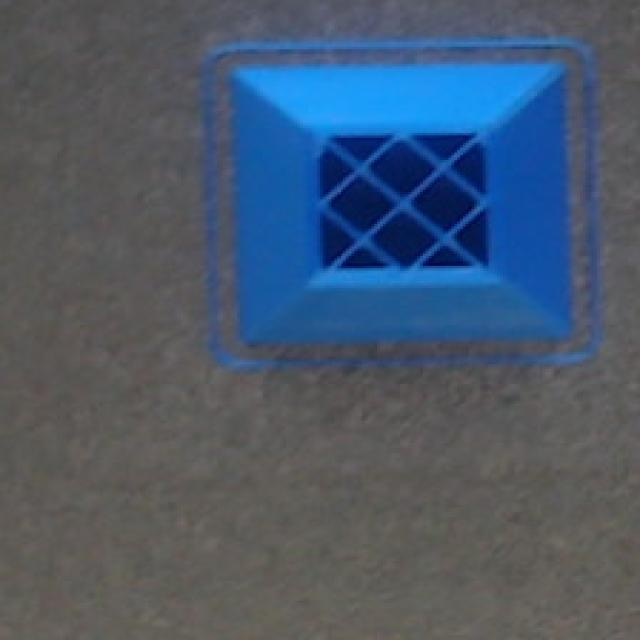noMistake: (225, 66, 592, 350)
